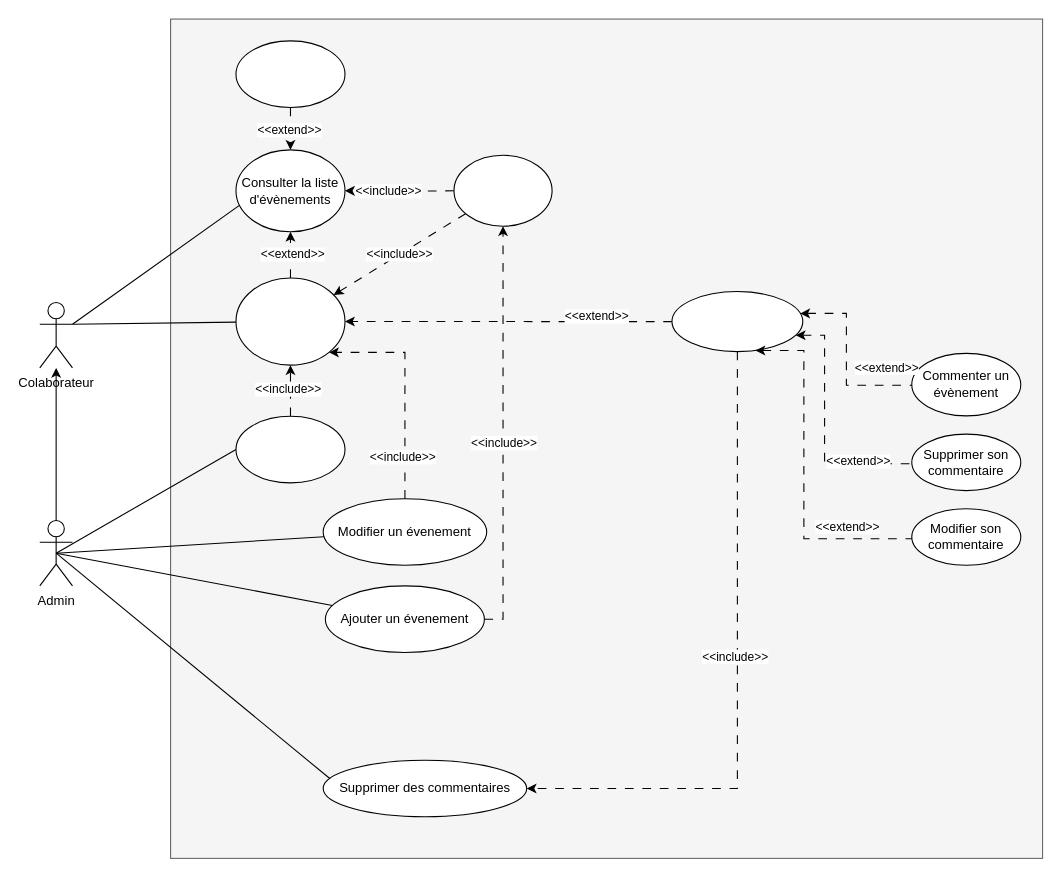
Some shapes in this 1062 by 877 pixel diagram are drawn without their labels. The shapes that lost their labels are listed below. From the top down, each one's centre as x and y in pixels, then its label:
At point (290, 73): "Filtrer les évènements".
At point (502, 190): "Identifier".
At point (290, 321): "Consulter un évènement".
At point (737, 321): "Consulter les commentaires d'un évènement".
At point (290, 449): "Supprimer un évenement".
